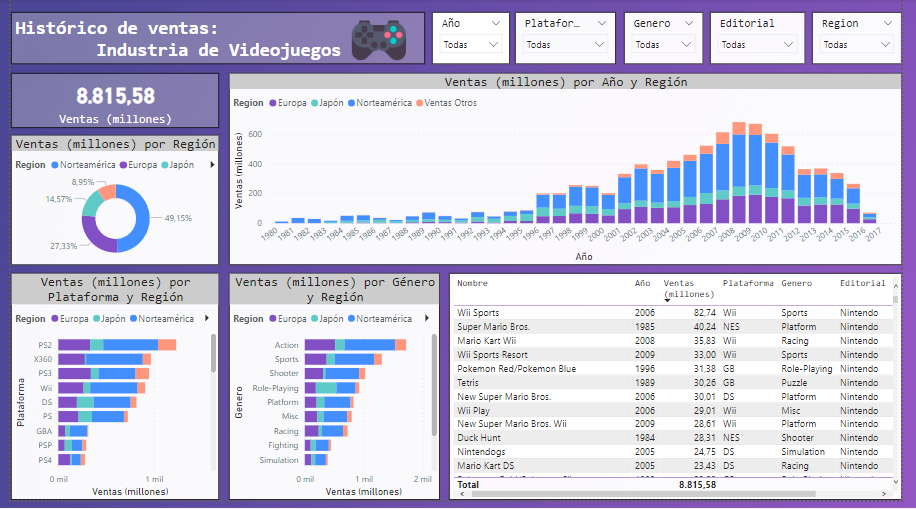

The page's visual inventory and layout, read from the dashboard file:
{"tool":"powerbi","page":{"name":"Página 1","canvas":[1280,720],"ordinal":0},"visuals":[{"type":"tableEx","fields":{"Values":["Ventas Videojuegos.Nombre","Ventas Videojuegos.Año","Sum(Ventas Videojuegos.Ventas (millones))","Ventas Videojuegos.Plataforma","Ventas Videojuegos.Genero","Ventas Videojuegos.Editorial"]},"box":[629.5,393.8,651,326.2],"z":1000},{"type":"textbox","box":[0,18.7,595,74.7],"z":1500},{"type":"donutChart","title":"Ventas (millones) por Región","fields":{"Category":["Ventas Videojuegos.Region"],"Y":["Sum(Ventas Videojuegos.Ventas (millones))"]},"box":[0,195.4,298.9,186.8],"z":2000},{"type":"slicer","fields":{"Values":["Ventas Videojuegos.Año"]},"box":[605,18.7,112.1,74.7],"z":3000},{"type":"barChart","title":"Ventas (millones) por Plataforma y Región","fields":{"Category":["Ventas Videojuegos.Plataforma"],"Y":["Sum(Ventas Videojuegos.Ventas (millones))"],"Series":["Ventas Videojuegos.Region"]},"box":[0,393.8,298.9,326.2],"z":4000},{"type":"barChart","title":"Ventas (millones) por Género y Región","fields":{"Category":["Ventas Videojuegos.Genero"],"Y":["Sum(Ventas Videojuegos.Ventas (millones))"],"Series":["Ventas Videojuegos.Region"]},"box":[313.3,393.8,303.2,326.2],"z":5000},{"type":"card","fields":{"Values":["Sum(Ventas Videojuegos.Ventas (millones))"]},"box":[0,106.3,298.9,79],"z":6000},{"type":"columnChart","title":"Ventas (millones) por Año y Región","fields":{"Category":["Ventas Videojuegos.Año"],"Y":["Sum(Ventas Videojuegos.Ventas (millones))"],"Series":["Ventas Videojuegos.Region"]},"box":[313.3,106.3,967.2,275.9],"z":7000},{"type":"slicer","fields":{"Values":["Ventas Videojuegos.Region"]},"box":[1151.1,18.7,129.3,74.7],"z":8000},{"type":"slicer","fields":{"Values":["Ventas Videojuegos.Genero"]},"box":[881,18.7,113.5,74.7],"z":9000},{"type":"slicer","fields":{"Values":["Ventas Videojuegos.Plataforma"]},"box":[724.3,18.7,145.1,74.7],"z":10000},{"type":"slicer","fields":{"Values":["Ventas Videojuegos.Editorial"]},"box":[1004.6,18.7,136.5,74.7],"z":11000},{"type":"image","box":[418.2,12.9,221.3,93.4],"z":11001}]}

Visuals, with their boxes in screenshot pixels (x1, y1, x2, y2), scaled from the page's 1280x720 canvas onto the 916x509 screenshot:
tableEx - Ventas Videojuegos.Nombre x Ventas Videojuegos.Año: [450,278,915,508]
textbox: [0,13,426,66]
"Ventas (millones) por Región" donutChart: [0,138,214,270]
slicer - Ventas Videojuegos.Año: [433,13,513,66]
"Ventas (millones) por Plataforma y Región" barChart: [0,278,214,508]
"Ventas (millones) por Género y Región" barChart: [224,278,441,508]
card - Sum(Ventas Videojuegos.Ventas (millones)): [0,75,214,131]
"Ventas (millones) por Año y Región" columnChart: [224,75,915,270]
slicer - Ventas Videojuegos.Region: [824,13,915,66]
slicer - Ventas Videojuegos.Genero: [630,13,712,66]
slicer - Ventas Videojuegos.Plataforma: [518,13,622,66]
slicer - Ventas Videojuegos.Editorial: [719,13,817,66]
image: [299,9,458,75]
